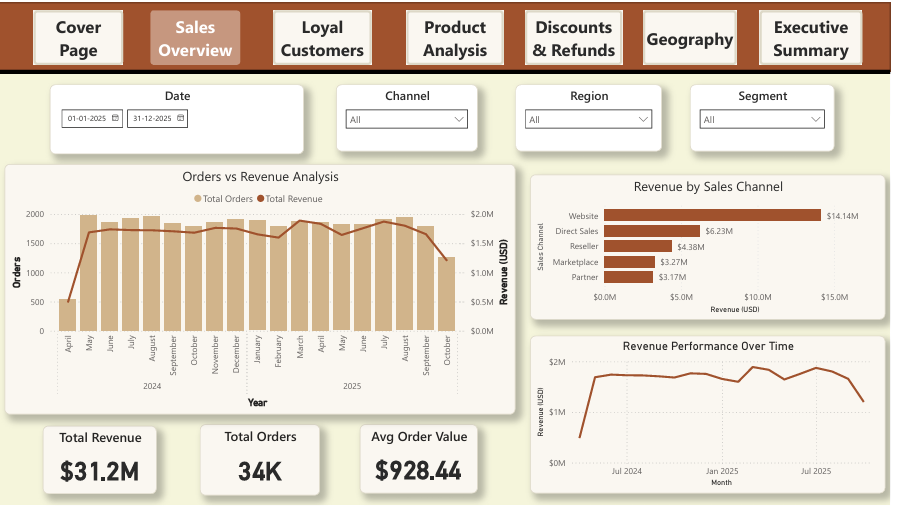

The page's visual inventory and layout, read from the dashboard file:
{"tool":"powerbi","page":{"name":"Sales Overview","canvas":[1280,720],"ordinal":1},"visuals":[{"type":"shape","box":[0,0,1280,98.6],"z":0},{"type":"actionButton","title":"Sales Overview","box":[52.9,11.4,128.6,77.1],"z":1000},{"type":"actionButton","title":"Sales Overview","box":[395.7,11.4,141.4,77.1],"z":2000},{"type":"actionButton","title":"Sales Overview","box":[587.1,11.4,138.6,77.1],"z":3000},{"type":"actionButton","title":"Sales Overview","box":[757.1,11.4,138.6,77.1],"z":4000},{"type":"actionButton","title":"Sales Overview","box":[925.7,11.4,134.3,77.1],"z":5000},{"type":"actionButton","title":"Sales Overview","box":[1092.9,11.4,147.1,77.1],"z":6000},{"type":"actionButton","title":"Sales Overview","box":[220,11.4,128.6,77.1],"z":7000},{"type":"shape","box":[0,81.4,1280,35.7],"z":8000},{"type":"slicer","title":"Date","fields":{"Values":["DimDate.Date"]},"box":[76.1,116.6,364.4,100.6],"z":10000},{"type":"slicer","title":"Channel","fields":{"Values":["Events.channel"]},"box":[485.7,117.1,202.9,95.7],"z":11000},{"type":"slicer","title":"Region","fields":{"Values":["Customers.region"]},"box":[742.9,117.1,210,95.7],"z":12000},{"type":"slicer","title":"Segment","fields":{"Values":["Customers.segment"]},"box":[992.9,117.1,207.1,95.7],"z":13000},{"type":"card","title":"Total Revenue","fields":{"Values":["_Measures.Total Revenue"]},"box":[65.7,605.7,162.9,98.6],"z":14000},{"type":"card","title":"Total Orders","fields":{"Values":["_Measures.Total Orders"]},"box":[291.4,604.3,171.4,101.4],"z":15000},{"type":"card","title":"Avg Order Value","fields":{"Values":["_Measures.Avg Order Value"]},"box":[520,604.3,168.6,98.6],"z":16000},{"type":"lineChart","title":"Revenue Performance Over Time","fields":{"Category":["Events.year_month.Variation.Date Hierarchy.Year","Events.year_month.Variation.Date Hierarchy.Quarter","Events.year_month.Variation.Date Hierarchy.Month","Events.year_month.Variation.Date Hierarchy.Day"],"Y":["_Measures.Total Revenue"]},"box":[764.3,477.1,508.6,225.7],"z":17000},{"type":"clusteredBarChart","title":"Revenue by Sales Channel","fields":{"Category":["Events.channel"],"Y":["_Measures.Total Revenue"]},"box":[764.3,245.7,508.6,208.6],"z":18000},{"type":"lineClusteredColumnComboChart","title":"Orders vs Revenue Analysis","fields":{"Y":["_Measures.Total Orders"],"Y2":["_Measures.Total Revenue"],"Category":["Events.year_month.Variation.Date Hierarchy.Year","Events.year_month.Variation.Date Hierarchy.Month"]},"box":[11.4,231.4,731.4,358.6],"z":19000}]}

Visuals, with their boxes in screenshot pixels (x1, y1, x2, y2), scaled from the page's 1280x720 canvas onto the 898x511 screenshot:
shape: locate(0, 0, 897, 70)
"Sales Overview" actionButton: locate(37, 8, 127, 63)
"Sales Overview" actionButton: locate(278, 8, 377, 63)
"Sales Overview" actionButton: locate(412, 8, 509, 63)
"Sales Overview" actionButton: locate(531, 8, 628, 63)
"Sales Overview" actionButton: locate(649, 8, 744, 63)
"Sales Overview" actionButton: locate(767, 8, 870, 63)
"Sales Overview" actionButton: locate(154, 8, 245, 63)
shape: locate(0, 58, 897, 83)
"Date" slicer: locate(53, 83, 309, 154)
"Channel" slicer: locate(341, 83, 483, 151)
"Region" slicer: locate(521, 83, 669, 151)
"Segment" slicer: locate(697, 83, 842, 151)
"Total Revenue" card: locate(46, 430, 160, 500)
"Total Orders" card: locate(204, 429, 325, 501)
"Avg Order Value" card: locate(365, 429, 483, 499)
"Revenue Performance Over Time" lineChart: locate(536, 339, 893, 499)
"Revenue by Sales Channel" clusteredBarChart: locate(536, 174, 893, 322)
"Orders vs Revenue Analysis" lineClusteredColumnComboChart: locate(8, 164, 521, 419)
